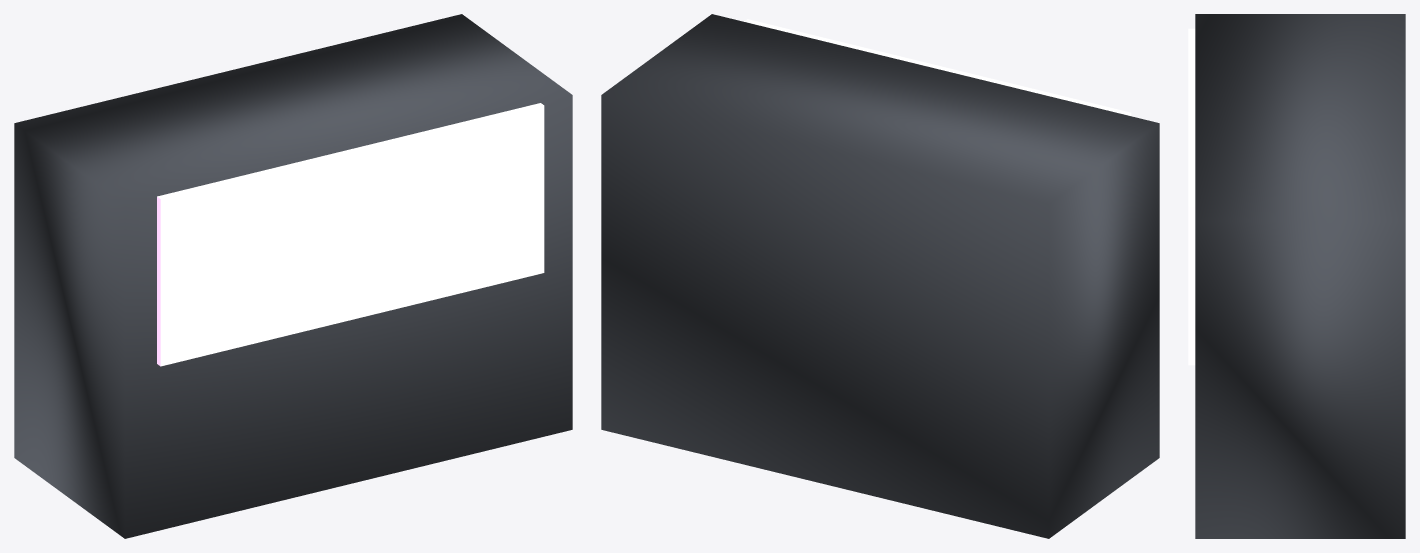
File: console.glb
3 renders of one model, left to right at view 1: azimuth 30°, elevation 25°; view 2: azimuth 150°, elevation 25°; view 3: azimuth 270°, elevation 25°, orthographic. The views are drawn at different scales.
Visible parts, largest first — view 1: ConsoleBase, ConsoleScreen; view 2: ConsoleBase, ConsoleScreen; view 3: ConsoleBase, ConsoleScreen.
Part boxes in pixels (x1,y1,x2,y2): ConsoleBase: (14,14,572,538); ConsoleScreen: (157,103,544,366); ConsoleBase: (601,14,1159,538); ConsoleScreen: (744,19,1131,115); ConsoleBase: (1195,14,1405,538); ConsoleScreen: (1188,28,1195,365).
Bounding box in the file's own units: 1.4 × 1 × 0.62.
